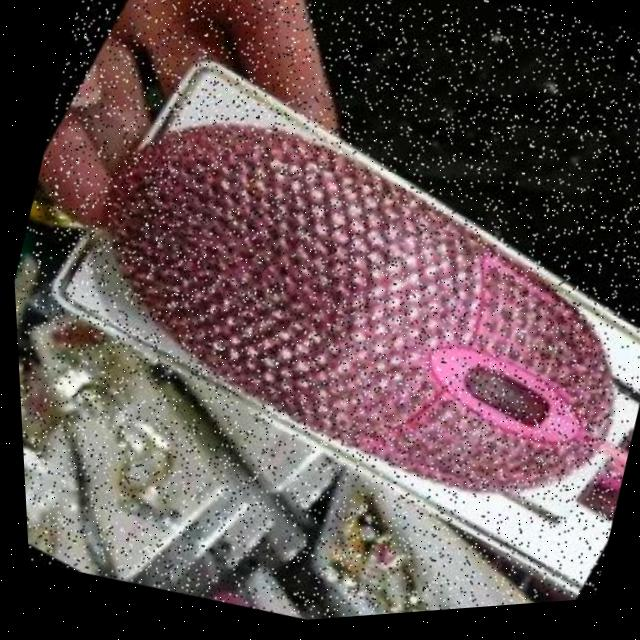mause: (1, 0, 640, 640)
